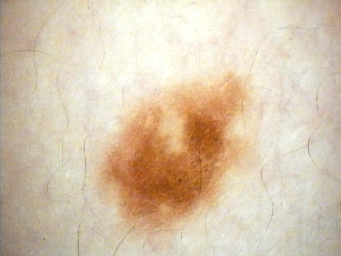melanoma: (100, 74, 251, 231)
